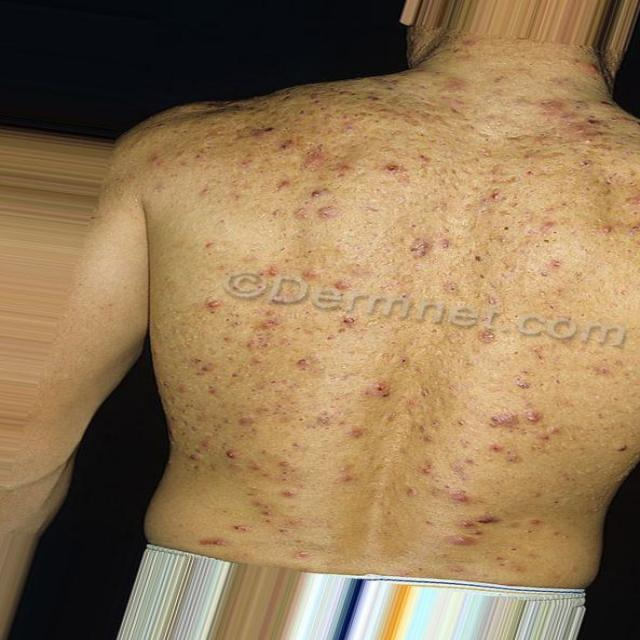acne: (268, 126, 358, 236), (234, 315, 328, 385), (438, 479, 507, 558), (484, 406, 552, 464)
